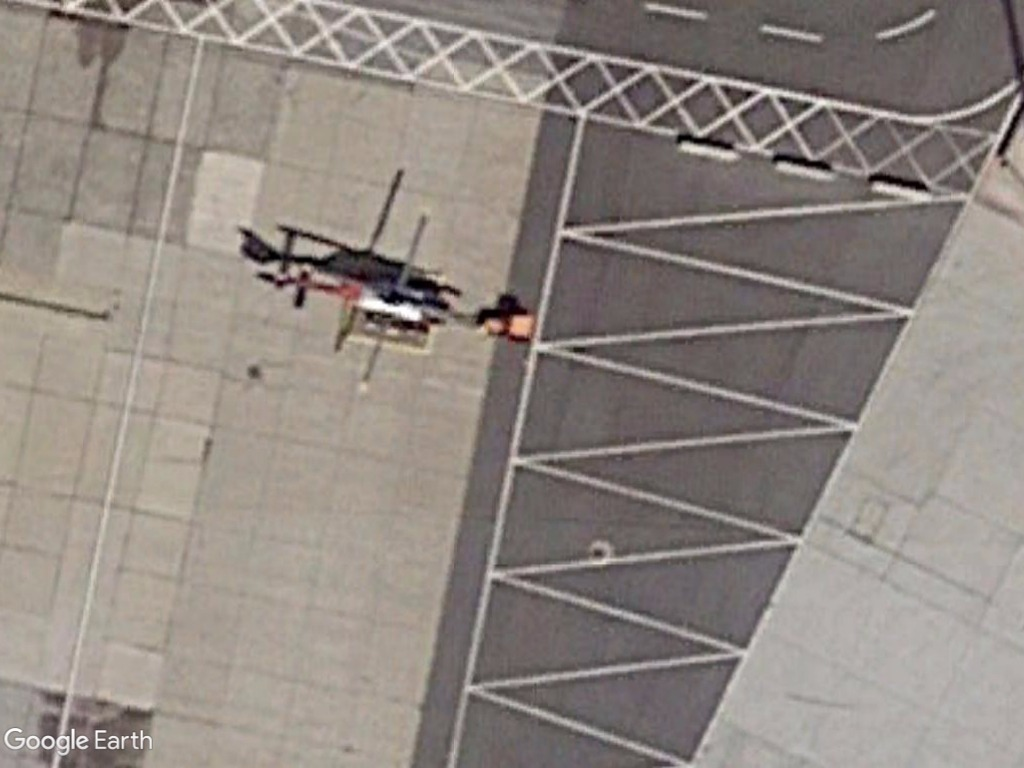helicopter: (256, 209, 503, 392)
